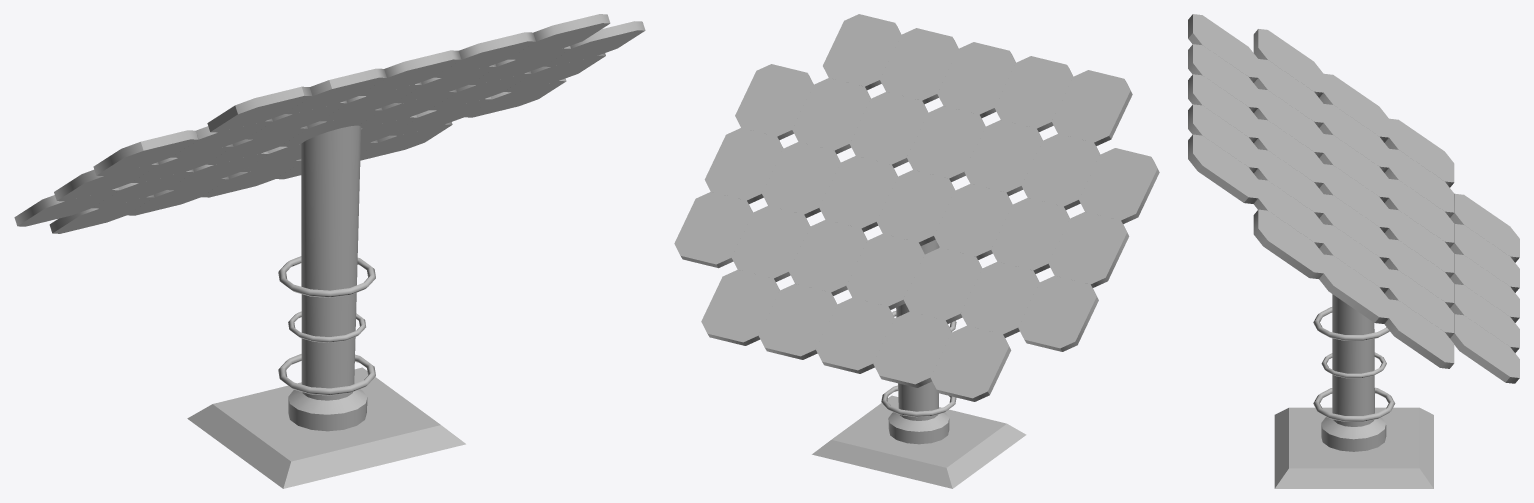
The model's file is KF_Kalonji_SM_Roof_SolarPanel_01.fbx.
3 renders of one model, left to right at view 1: azimuth 30°, elevation 25°; view 2: azimuth 150°, elevation 25°; view 3: azimuth 270°, elevation 25°, orthographic. The views are drawn at different scales.
Visible parts, largest first — view 1: Panel, stick, Stand, circle; view 2: Panel, Stand, stick, circle; view 3: Panel, Stand, stick, circle.
Boxes of the visible parts, x1,y1,x2,y2 form: Panel: (14, 14, 645, 233); stick: (288, 125, 367, 431); Stand: (187, 367, 465, 488); circle: (278, 256, 375, 395); Panel: (674, 14, 1159, 401); Stand: (812, 395, 1026, 488); stick: (888, 239, 949, 444); circle: (881, 311, 956, 417); Panel: (1188, 14, 1519, 383); Stand: (1274, 407, 1433, 488); stick: (1321, 294, 1386, 451); circle: (1313, 307, 1395, 421).
Size of the model in its own units: 125 by 102 by 82.8.
